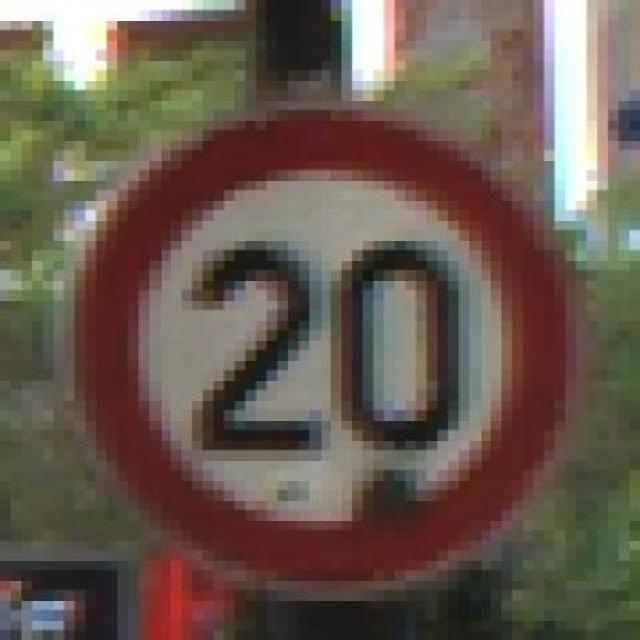forb_speed_over_20: (100, 114, 566, 580)
